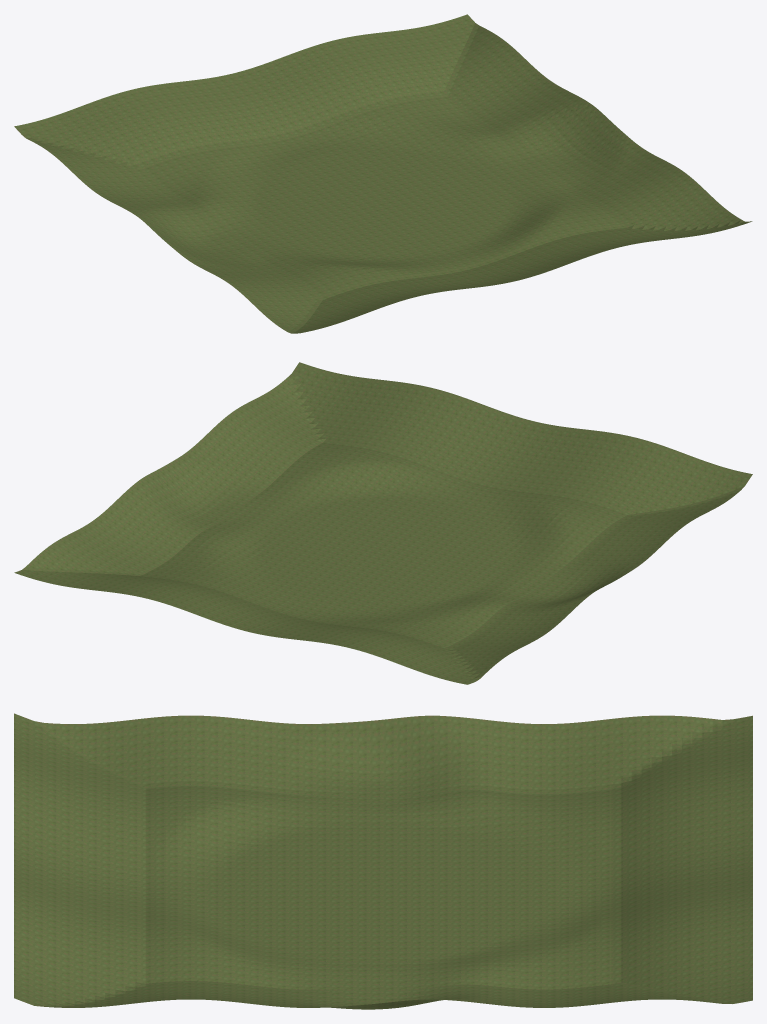
File: campo-poblado.glb
3 renders of one model, top to bottom at view 1: azimuth 30°, elevation 25°; view 2: azimuth 150°, elevation 25°; view 3: azimuth 270°, elevation 25°, orthographic. The views are drawn at different scales.
Parts seen in each view (by area): view 1: campo-poblado-0; view 2: campo-poblado-0; view 3: campo-poblado-0.
Boxes of the visible parts, box(x1,y1,x2,y2) form: campo-poblado-0: box(14, 14, 752, 333); campo-poblado-0: box(14, 362, 752, 684); campo-poblado-0: box(14, 713, 752, 1009).
Size of the model in its own units: 201 by 15.77 by 219.
Materials: 1 (1 with a texture image).
